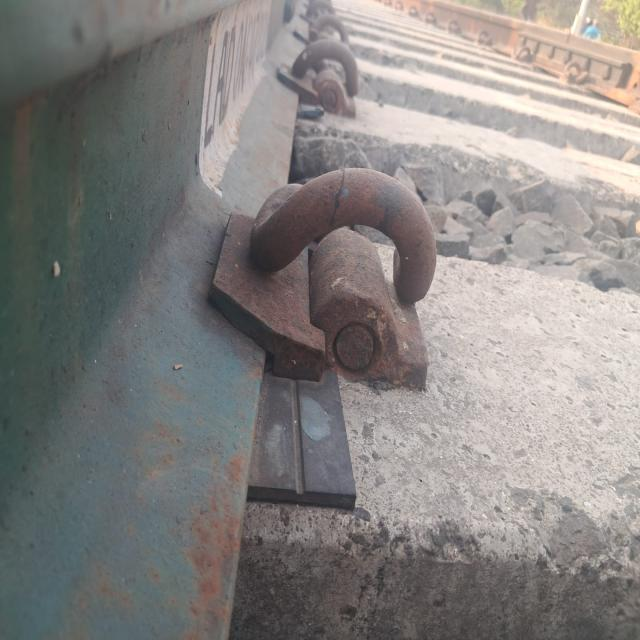underrailed: (212, 153, 474, 439)
